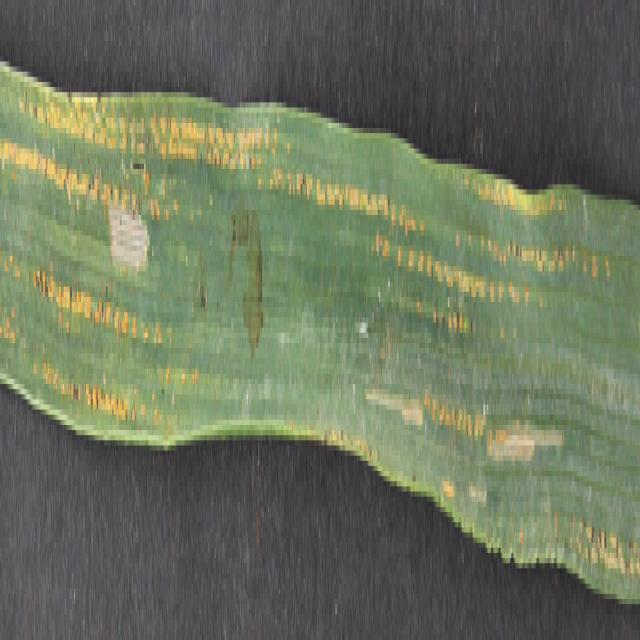leaf rust: (0, 66, 640, 599)
